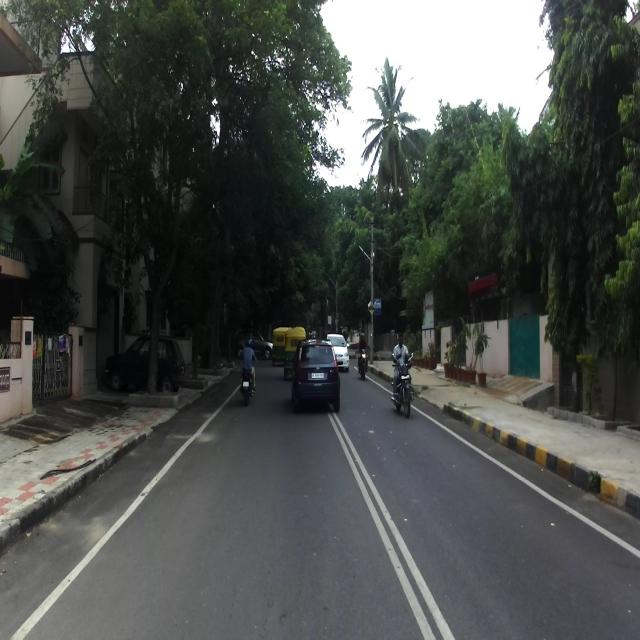car: (104, 332, 186, 393), (291, 335, 340, 411)
motorcycle: (390, 352, 416, 417)
